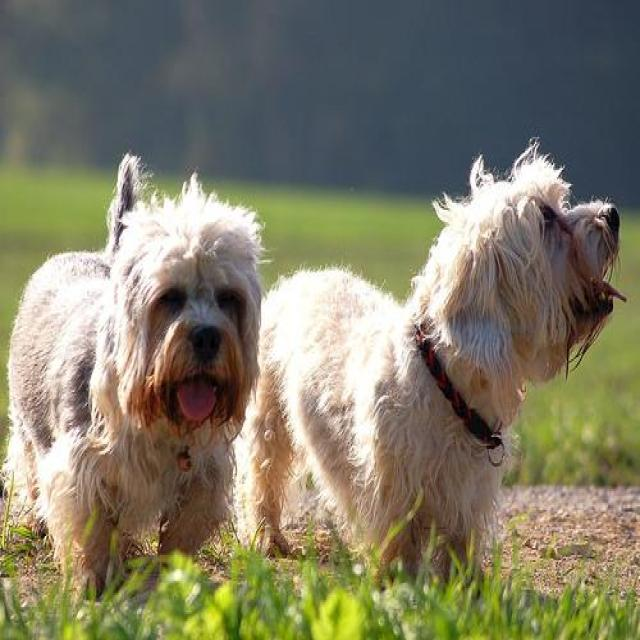dandie_dinmont: (228, 138, 631, 596), (8, 154, 270, 604)
